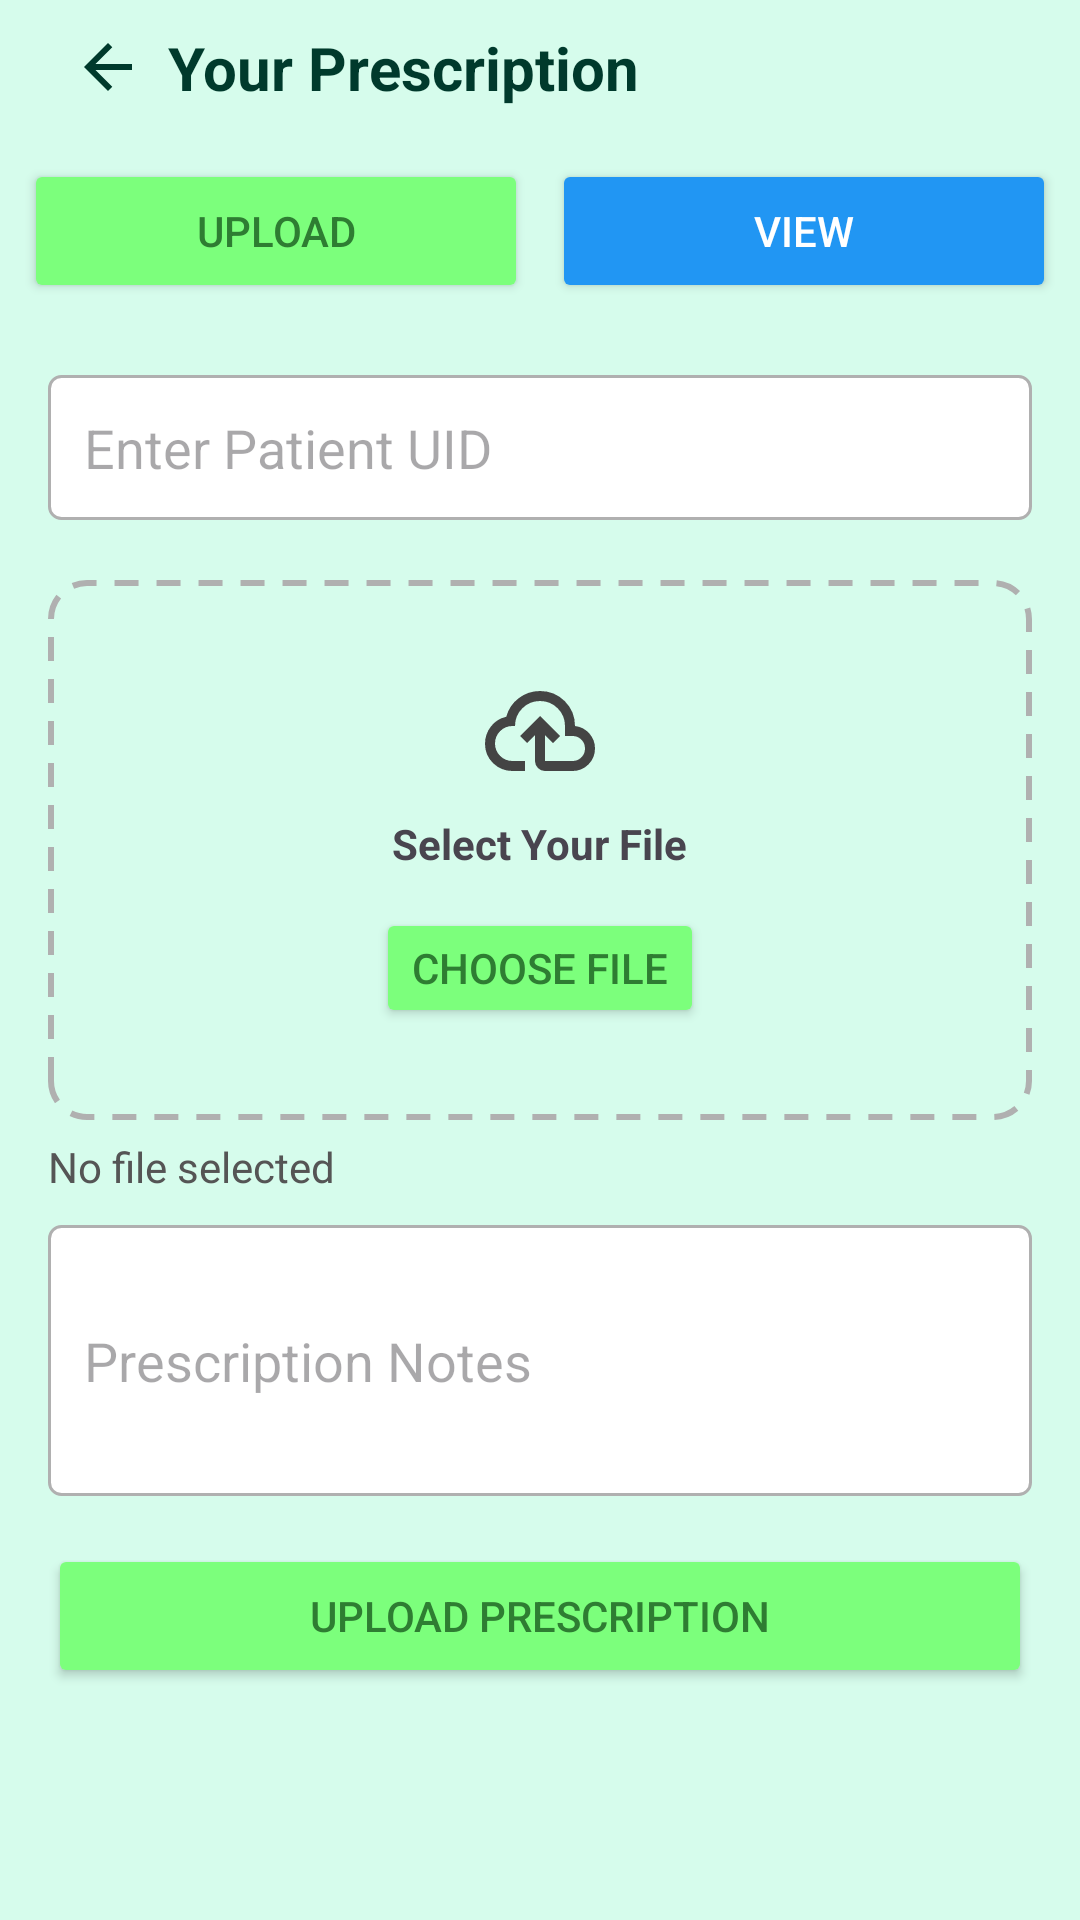

Screen size 1080×1920. Icon name, then its center in pixels as point (x, y):
arrow back: point (108, 67)
upload: point (540, 731)
